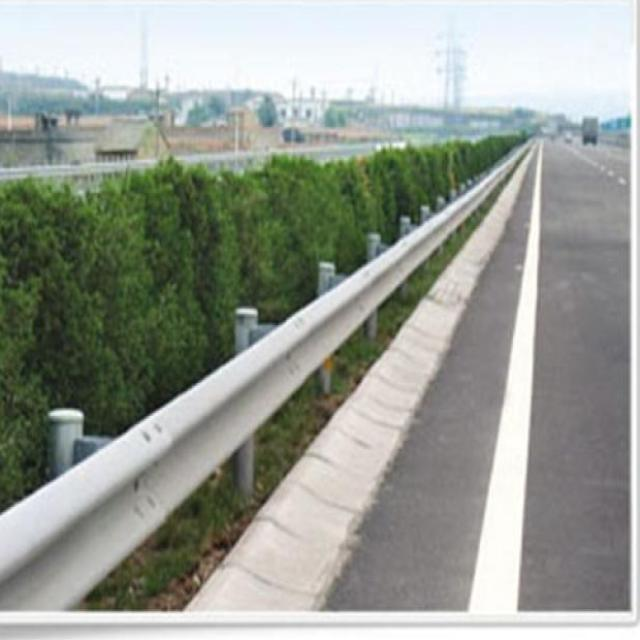Guard rail: (0, 144, 530, 609)
